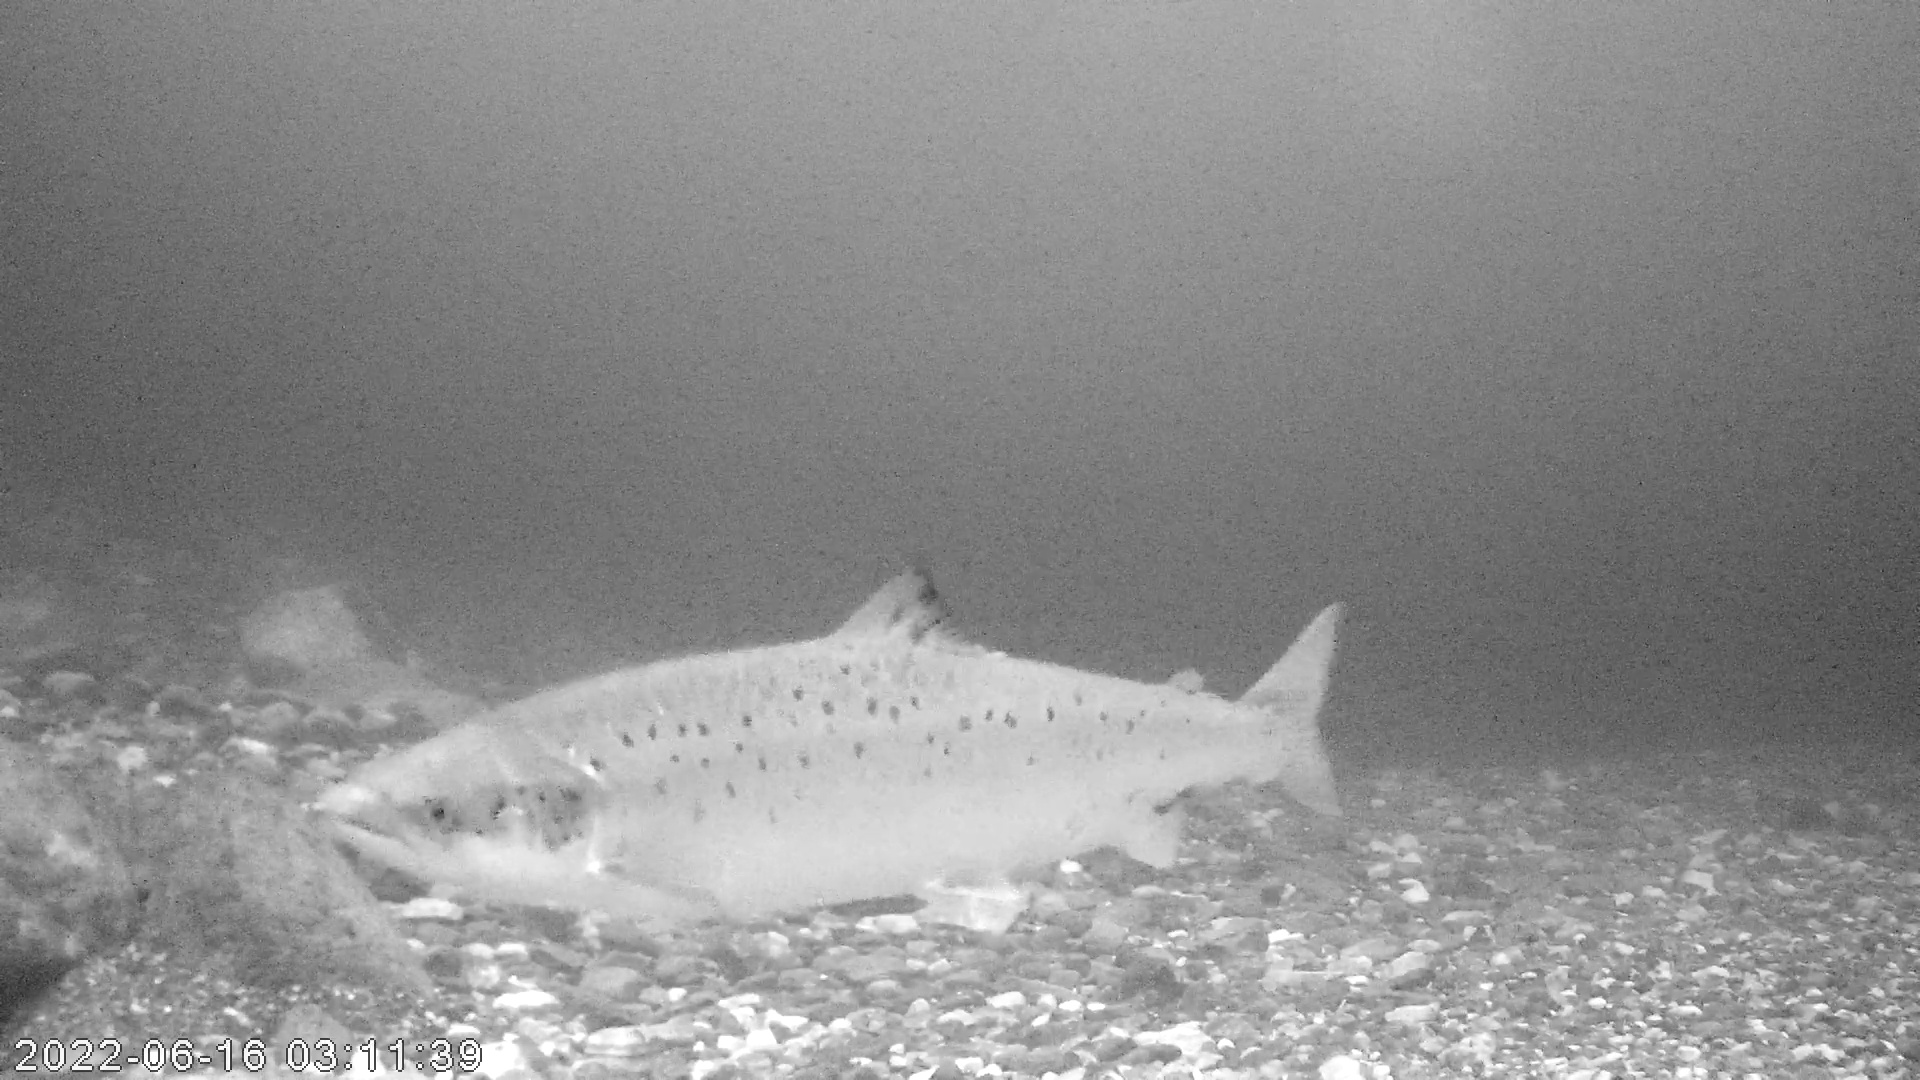salmon: (316, 563, 1342, 927)
